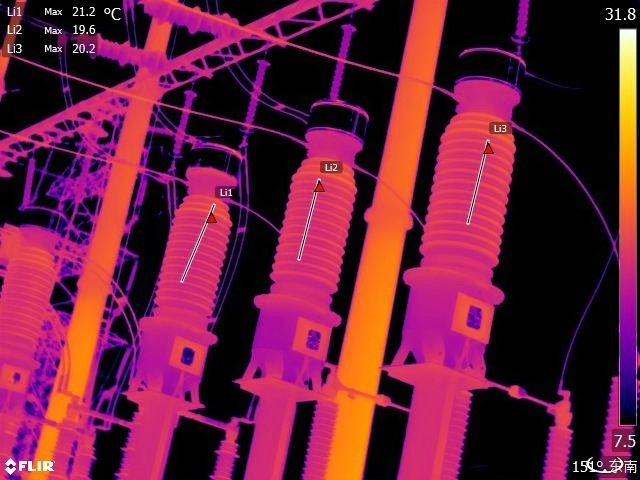current transformer: (394, 21, 544, 365), (232, 83, 375, 380), (121, 123, 248, 392), (1, 196, 71, 395)
insulator: (137, 1, 243, 39), (66, 28, 150, 70), (238, 52, 275, 134), (324, 17, 361, 97), (168, 83, 199, 158), (512, 1, 537, 51), (19, 154, 40, 209), (147, 122, 176, 139)
post insulator: (299, 397, 344, 480), (440, 383, 476, 480), (538, 425, 583, 480), (43, 429, 78, 480), (113, 428, 139, 480), (214, 432, 239, 480), (74, 435, 99, 480)
switch: (324, 367, 412, 420), (483, 377, 580, 419), (62, 398, 135, 431), (176, 402, 243, 436)
